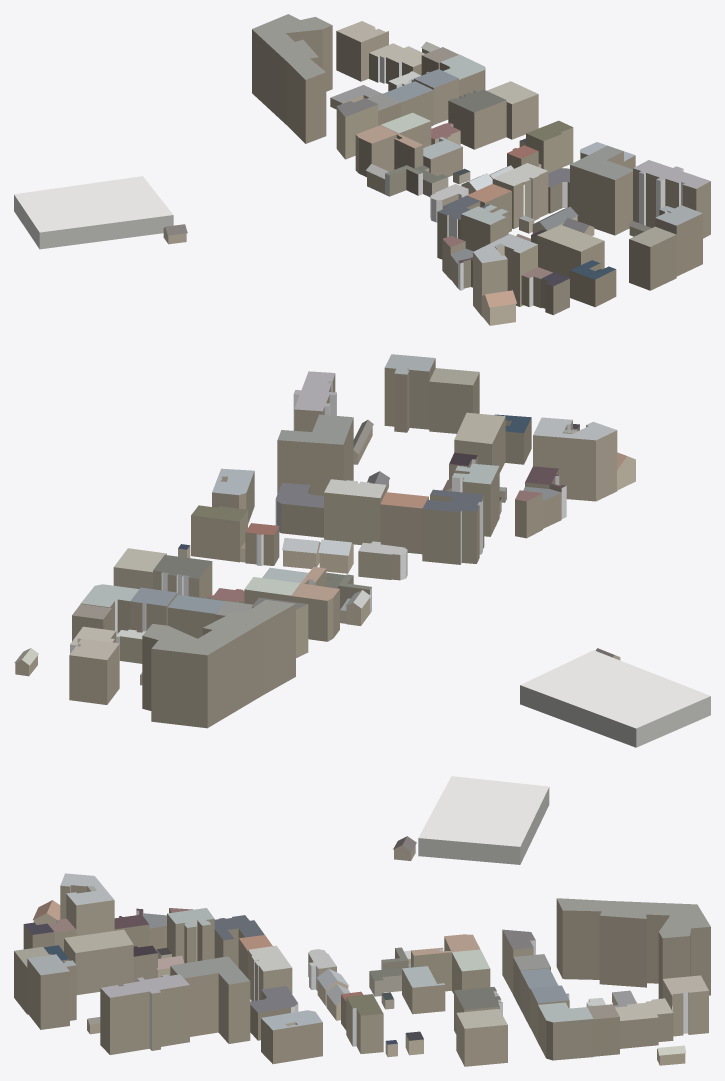
3 views of the same model, one above another, from view 1: azimuth 30°, elevation 25°; view 2: azimuth 150°, elevation 25°; view 3: azimuth 270°, elevation 25° (orthographic). The views are drawn at different scales.
Parts seen in each view (by area): view 1: tuile; view 2: tuile; view 3: tuile.
Boxes of the visible parts, x1,y1,x2,y2 form: tuile: [14, 14, 710, 325]; tuile: [14, 354, 710, 747]; tuile: [14, 776, 710, 1066].
Bounding box in the file's own units: 233 × 31.66 × 256.
